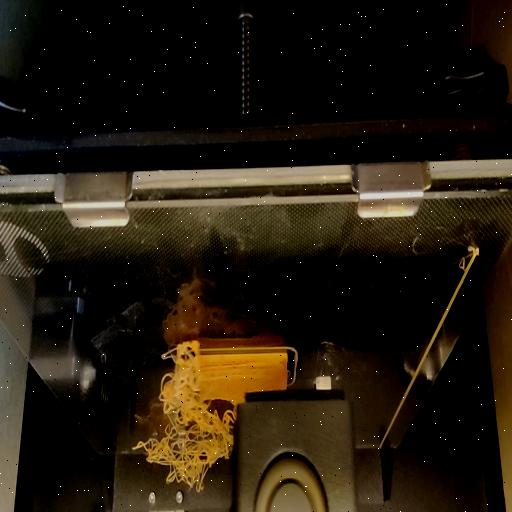spaghetti: (126, 416, 232, 492)
